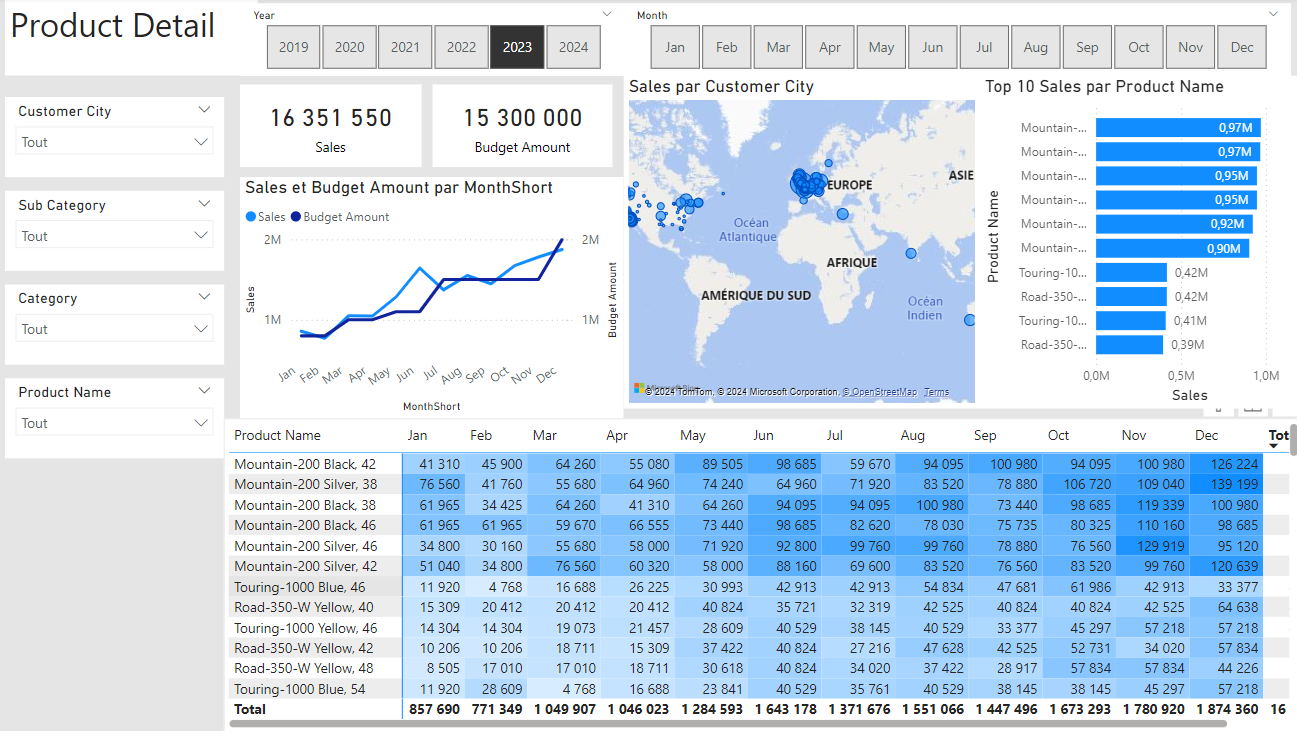

Layout of this report page (visuals, bound fields, positions):
{"tool":"powerbi","page":{"name":"Product","canvas":[1280,720],"ordinal":2},"visuals":[{"type":"textbox","box":[9.8,0,247,77],"z":0},{"type":"slicer","fields":{"Values":["Dim customer.Customer City"]},"box":[9.6,97.4,214.1,78.2],"z":1},{"type":"slicer","fields":{"Values":["Dim product.Sub Category"]},"box":[9.6,189.4,214.1,78.2],"z":2},{"type":"slicer","fields":{"Values":["Dim product.Product Category"]},"box":[9.6,281.3,214.1,78.2],"z":3},{"type":"slicer","fields":{"Values":["Dim product.Product Name"]},"box":[9.6,373.2,214.1,78.2],"z":4},{"type":"slicer","fields":{"Values":["Dim calendar.Year"]},"box":[239.7,6.1,376.6,70.9],"z":5},{"type":"slicer","fields":{"Values":["Dim calendar.MonthShort"]},"box":[615.1,6.1,653,70.9],"z":6},{"type":"lineChart","fields":{"Y":["Key Measures.Sales"],"Y2":["Key Measures.Budget Amount"],"Category":["Dim calendar.MonthShort"]},"box":[239.7,176.1,375.4,236],"z":7},{"type":"card","fields":{"Values":["Key Measures.Sales"]},"box":[239.7,85.6,177.3,80.7],"z":8},{"type":"card","fields":{"Values":["Key Measures.Budget Amount"]},"box":[428,85.6,176.1,80.7],"z":9},{"type":"map","fields":{"Category":["Dim customer.Customer City"],"Size":["Key Measures.Sales"]},"box":[615.1,77,348.5,325.3],"z":10},{"type":"pivotTable","fields":{"Columns":["Dim calendar.MonthShort"],"Values":["Key Measures.Sales"],"Rows":["Dim product.Product Name"]},"box":[223.8,412.1,1056.5,308.2],"z":11},{"type":"barChart","title":"Top 10 Sales par Product Name","fields":{"Y":["Key Measures.Sales"],"Category":["Dim product.Product Name"]},"box":[963.6,77,316.7,325.3],"z":12}]}

Visuals, with their boxes in screenshot pixels (x1, y1, x2, y2), scaled from the page's 1280x720 canvas onto the 1297x731 screenshot:
textbox: (left=10, top=0, right=260, bottom=78)
slicer - Dim customer.Customer City: (left=10, top=99, right=227, bottom=178)
slicer - Dim product.Sub Category: (left=10, top=192, right=227, bottom=272)
slicer - Dim product.Product Category: (left=10, top=286, right=227, bottom=365)
slicer - Dim product.Product Name: (left=10, top=379, right=227, bottom=458)
slicer - Dim calendar.Year: (left=243, top=6, right=624, bottom=78)
slicer - Dim calendar.MonthShort: (left=623, top=6, right=1285, bottom=78)
lineChart - Key Measures.Sales x Key Measures.Budget Amount: (left=243, top=179, right=623, bottom=418)
card - Key Measures.Sales: (left=243, top=87, right=423, bottom=169)
card - Key Measures.Budget Amount: (left=434, top=87, right=612, bottom=169)
map - Dim customer.Customer City x Key Measures.Sales: (left=623, top=78, right=976, bottom=408)
pivotTable - Dim calendar.MonthShort x Key Measures.Sales: (left=227, top=418, right=1296, bottom=730)
"Top 10 Sales par Product Name" barChart: (left=976, top=78, right=1296, bottom=408)
